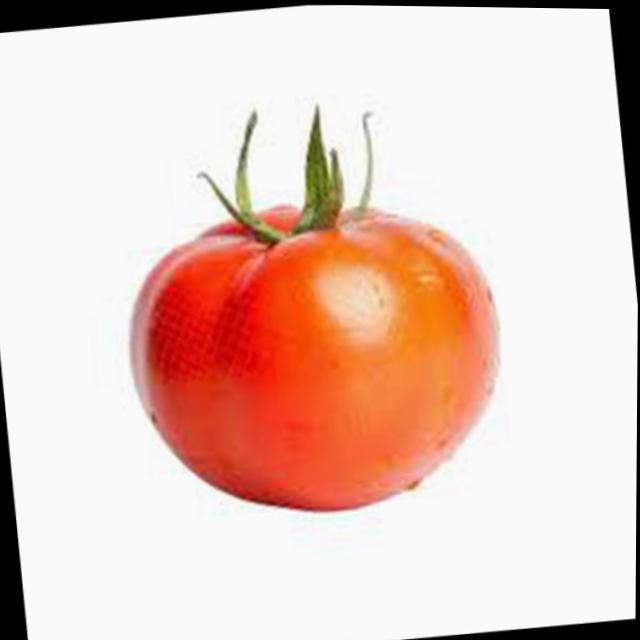tomato: (128, 195, 506, 518)
